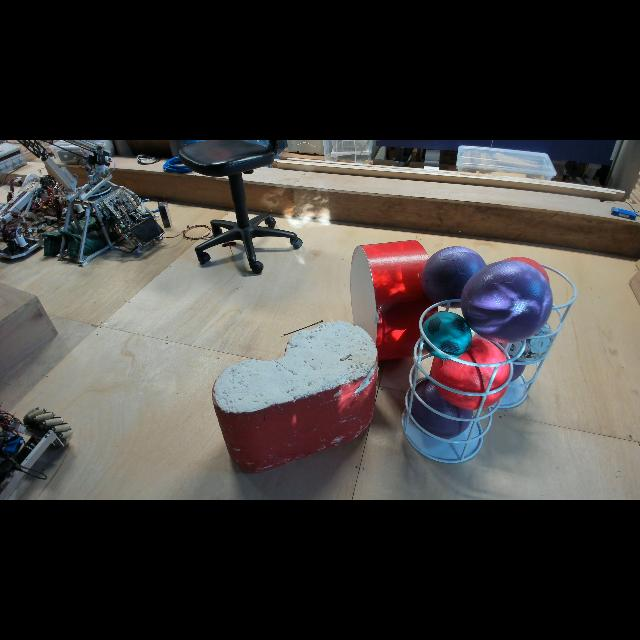P: (458, 258, 556, 344), (420, 244, 490, 310), (406, 376, 476, 440), (467, 327, 531, 385)
R: (428, 334, 512, 412), (488, 257, 552, 319)
S: (398, 296, 530, 466), (450, 260, 580, 410)
